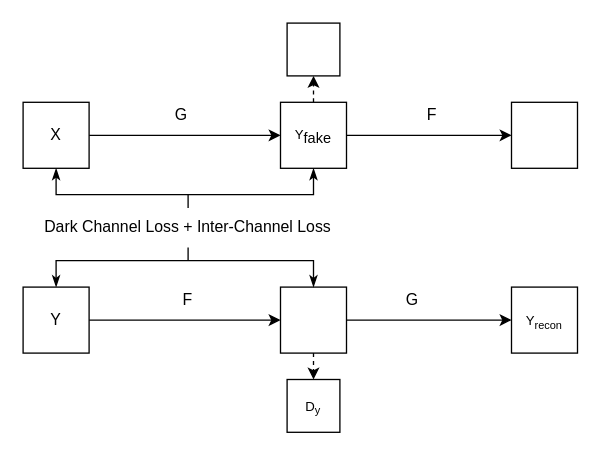
Some shapes in this 601 by 455 pixel diagram are drawn without their labels. Here are the shapes that lost their labels. From the top down, the centre of each, then its label:
At pixel 313 49: "D x".
At pixel 544 134: "X recon".
At pixel 312 319: "X fake".
